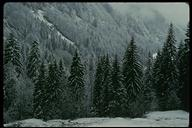snow: (26, 7, 131, 37)
tree: (29, 39, 90, 118), (90, 38, 147, 116), (150, 21, 183, 111)
